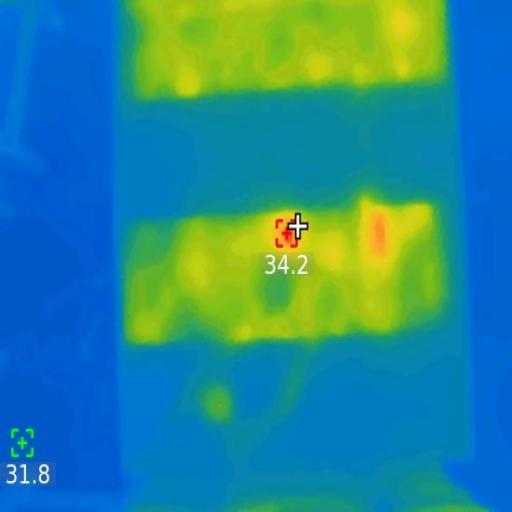hotspot: (369, 211, 391, 261), (272, 216, 302, 250)
